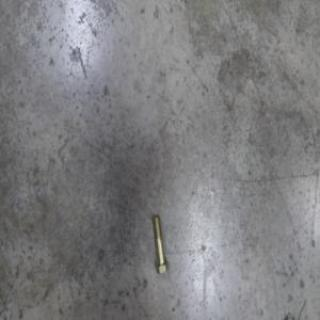Bolttrack_idkeyframe: (150, 217, 169, 278)
